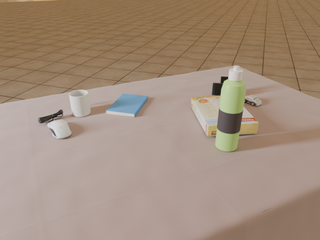book: (106, 94, 148, 117)
bottle: (215, 66, 246, 152)
box: (191, 95, 258, 136)
cup: (69, 90, 91, 117)
mouse: (47, 120, 72, 139)
phone: (212, 83, 223, 96)
toy_car: (245, 95, 262, 106)
